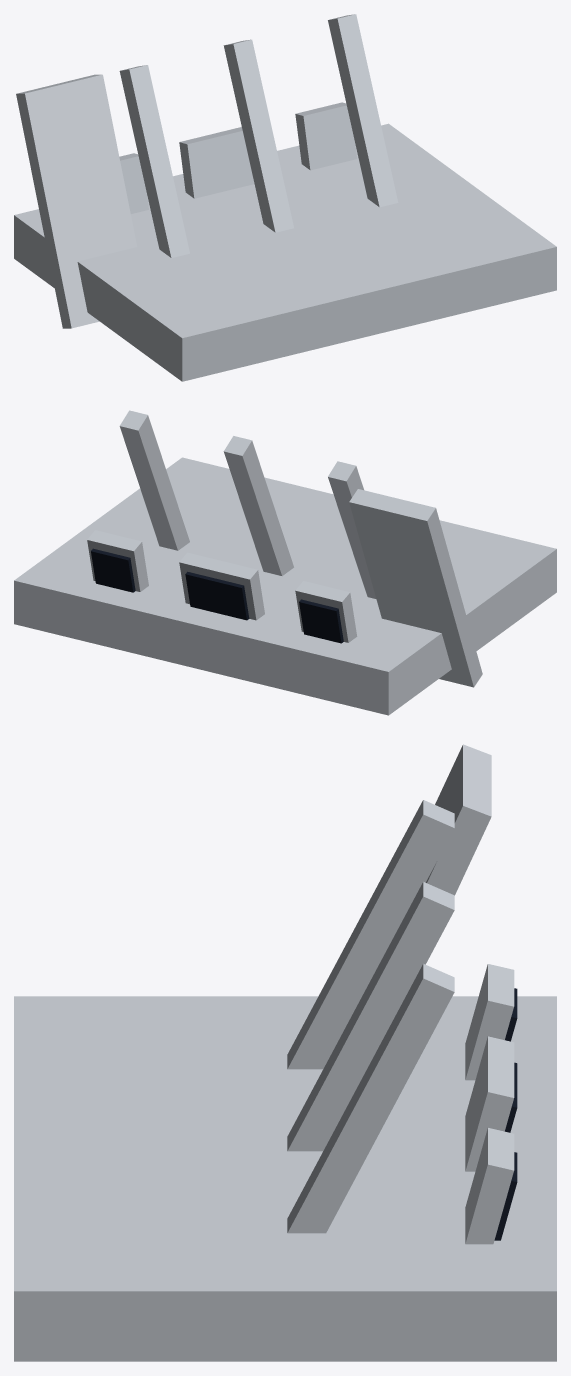
File: pedals_race.glb
3 renders of one model, top to bottom at view 1: azimuth 30°, elevation 25°; view 2: azimuth 150°, elevation 25°; view 3: azimuth 270°, elevation 25°, orthographic. The views are drawn at different scales.
Visible parts, largest first — view 1: CAD_PedalBox; view 2: CAD_PedalBox; view 3: CAD_PedalBox.
Boxes of the visible parts, bbox=[...] form: CAD_PedalBox: bbox=[14, 14, 556, 381]; CAD_PedalBox: bbox=[14, 410, 556, 715]; CAD_PedalBox: bbox=[14, 744, 556, 1361].
Bounding box in the file's own units: 0.3775 × 0.2002 × 0.28.
